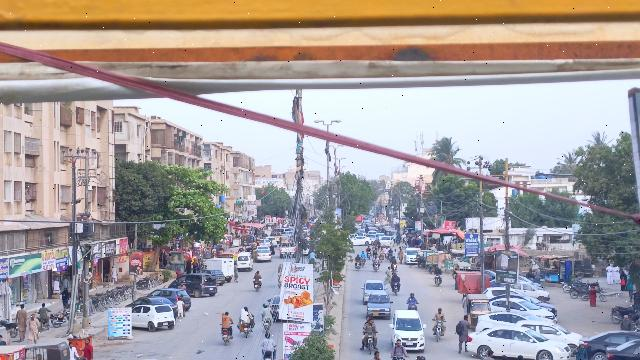Bike: (432, 319, 447, 342), (363, 330, 377, 354), (240, 320, 253, 340), (261, 316, 272, 334), (221, 327, 232, 344), (390, 281, 402, 296), (252, 282, 261, 293), (407, 303, 419, 310)
Car: (466, 326, 570, 360), (390, 309, 427, 352), (132, 305, 179, 333), (363, 293, 394, 318), (360, 280, 386, 302)
Person: (455, 314, 472, 351), (13, 301, 28, 342), (26, 314, 40, 343), (391, 338, 406, 356), (221, 310, 233, 329), (362, 316, 377, 331), (238, 306, 253, 321), (432, 306, 446, 321), (260, 302, 273, 318), (406, 292, 418, 304), (176, 297, 183, 316), (251, 269, 261, 282), (391, 273, 400, 283)
Rickshaw: (463, 293, 492, 330)
